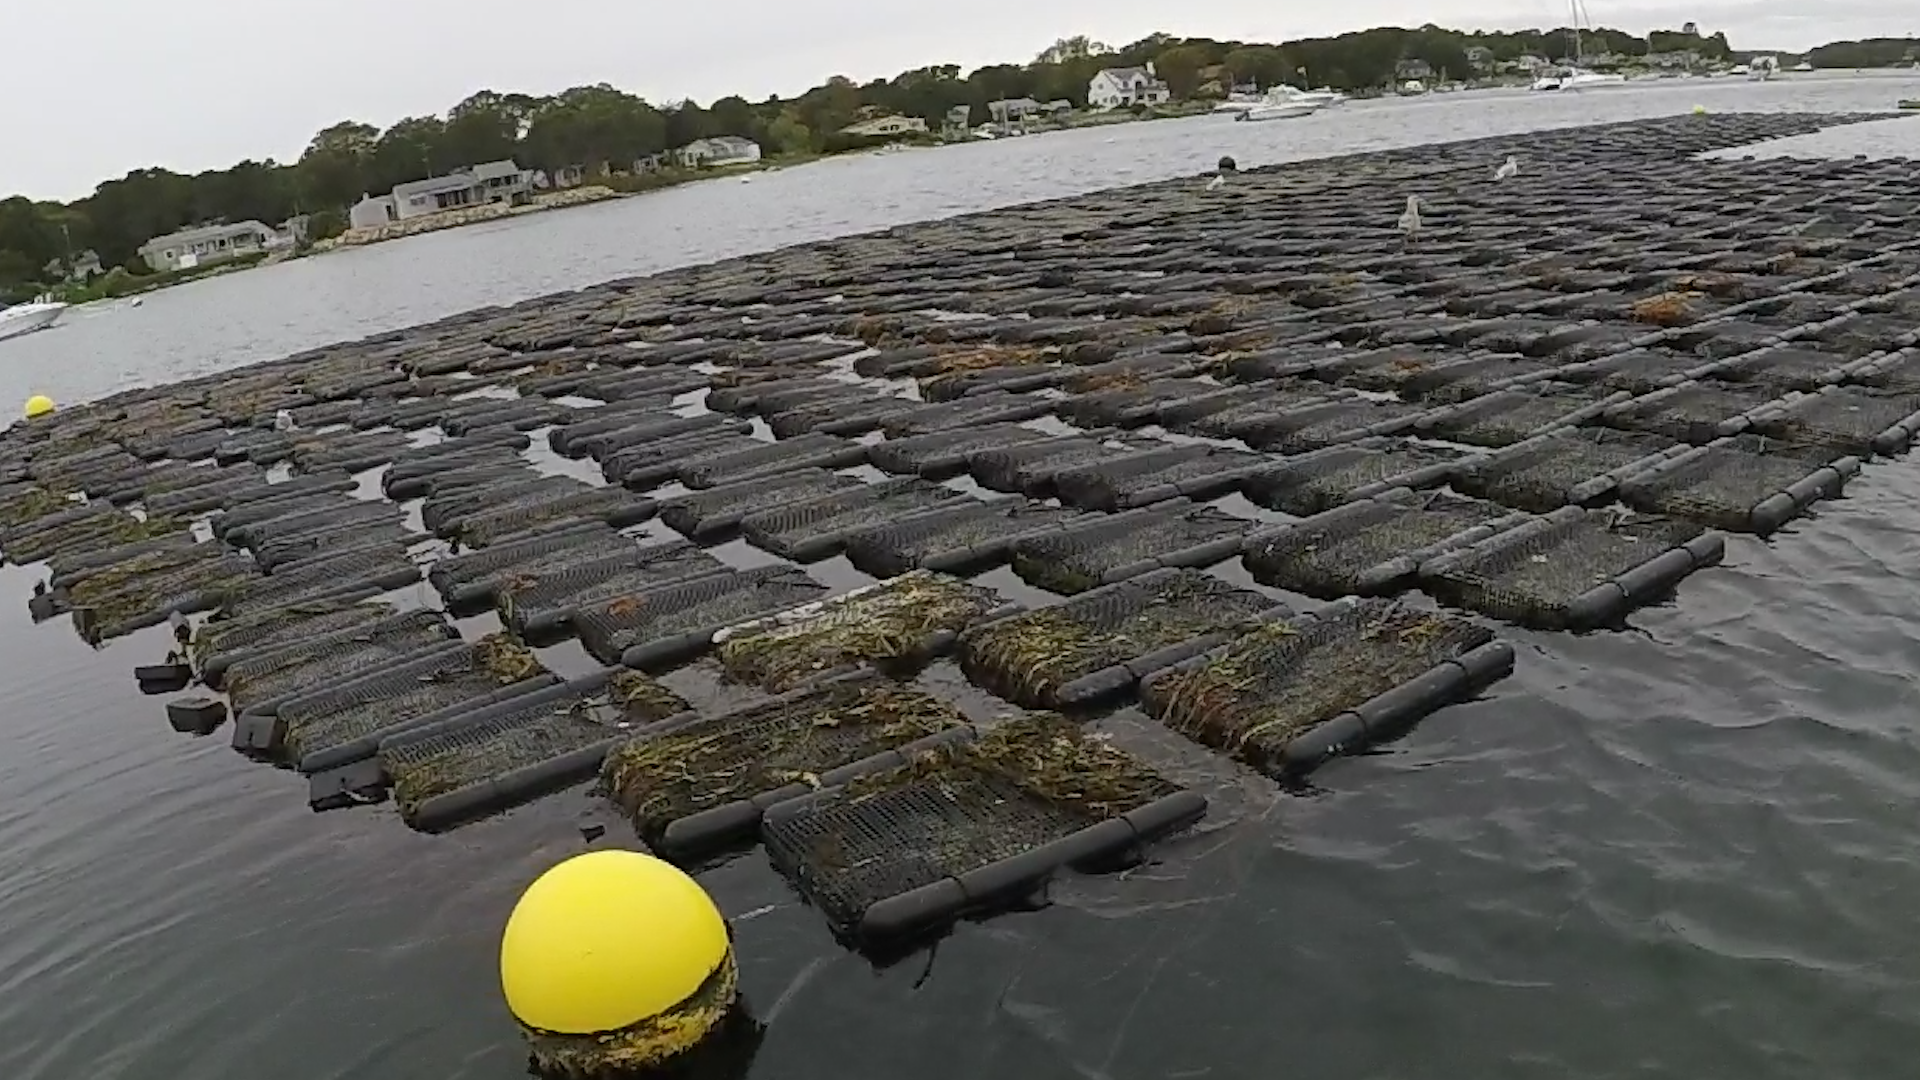bag: (745, 716, 1204, 956), (1127, 591, 1514, 760)
